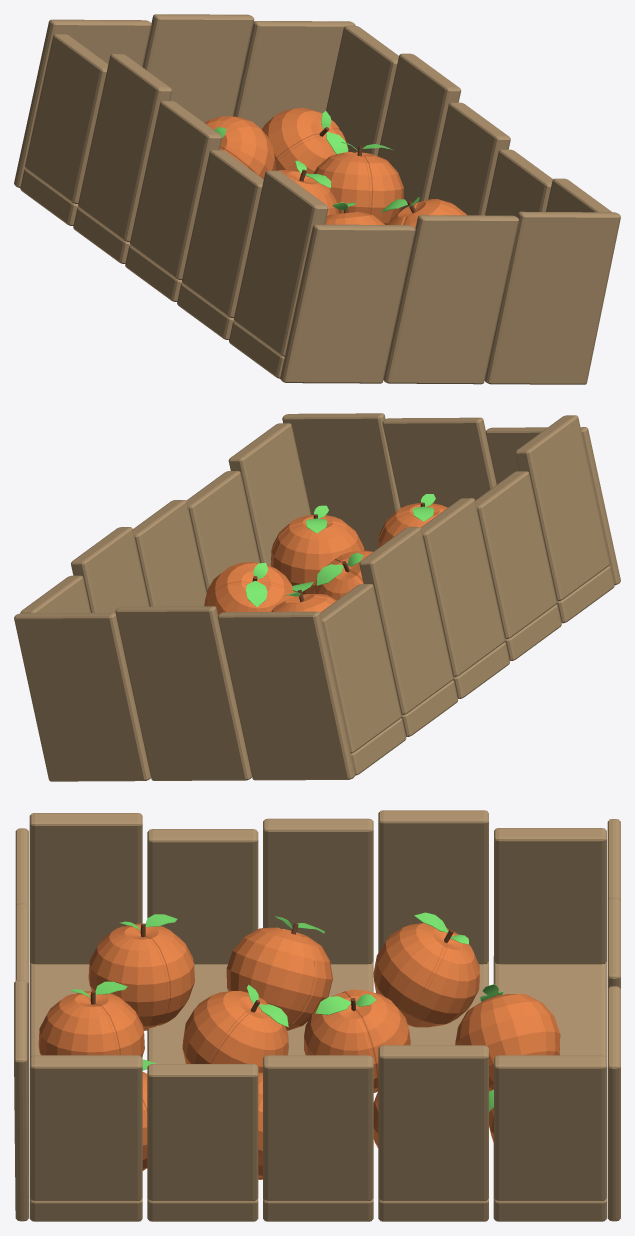
File: PeachCase.fbx
The picture shows the model from 3 angles, top to bottom: view 1: azimuth 30°, elevation 25°; view 2: azimuth 150°, elevation 25°; view 3: azimuth 270°, elevation 25°; orthographic projection. The views are drawn at different scales.
Parts seen in each view (by area): view 1: Plane.042, Icosphere.012, Icosphere.013, Icosphere.018, Icosphere.006, Icosphere.017, Icosphere.016; view 2: Plane.042, Icosphere.003, Icosphere.006, Icosphere.016, Icosphere.015, Icosphere.017; view 3: Plane.042, Icosphere.022, Icosphere.019, Icosphere.020, Icosphere.016, Icosphere.015, Icosphere.017, Icosphere.018, Icosphere.003.
Boxes of the visible parts, x1,y1,x2,y2 form: Plane.042: (14, 14, 620, 384); Icosphere.012: (313, 142, 403, 224); Icosphere.013: (262, 108, 348, 173); Icosphere.018: (205, 116, 275, 177); Icosphere.006: (381, 197, 466, 228); Icosphere.017: (262, 160, 338, 215); Icosphere.016: (325, 202, 384, 224); Plane.042: (14, 413, 620, 781); Icosphere.003: (270, 505, 364, 594); Icosphere.006: (204, 561, 295, 615); Icosphere.016: (313, 550, 373, 600); Icosphere.015: (378, 494, 447, 548); Icosphere.017: (271, 581, 336, 612); Plane.042: (14, 810, 620, 1221); Icosphere.022: (373, 912, 479, 1027); Icosphere.019: (88, 914, 194, 1030); Icosphere.020: (226, 916, 332, 1030); Icosphere.016: (182, 984, 288, 1072); Icosphere.015: (38, 981, 144, 1056); Icosphere.017: (304, 989, 410, 1092); Icosphere.018: (455, 984, 560, 1091); Icosphere.003: (142, 1059, 156, 1170).
Size of the model in its own units: 174 by 117 by 241.
